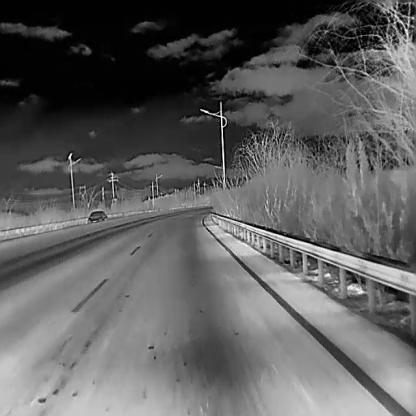car: (86, 210, 106, 224)
